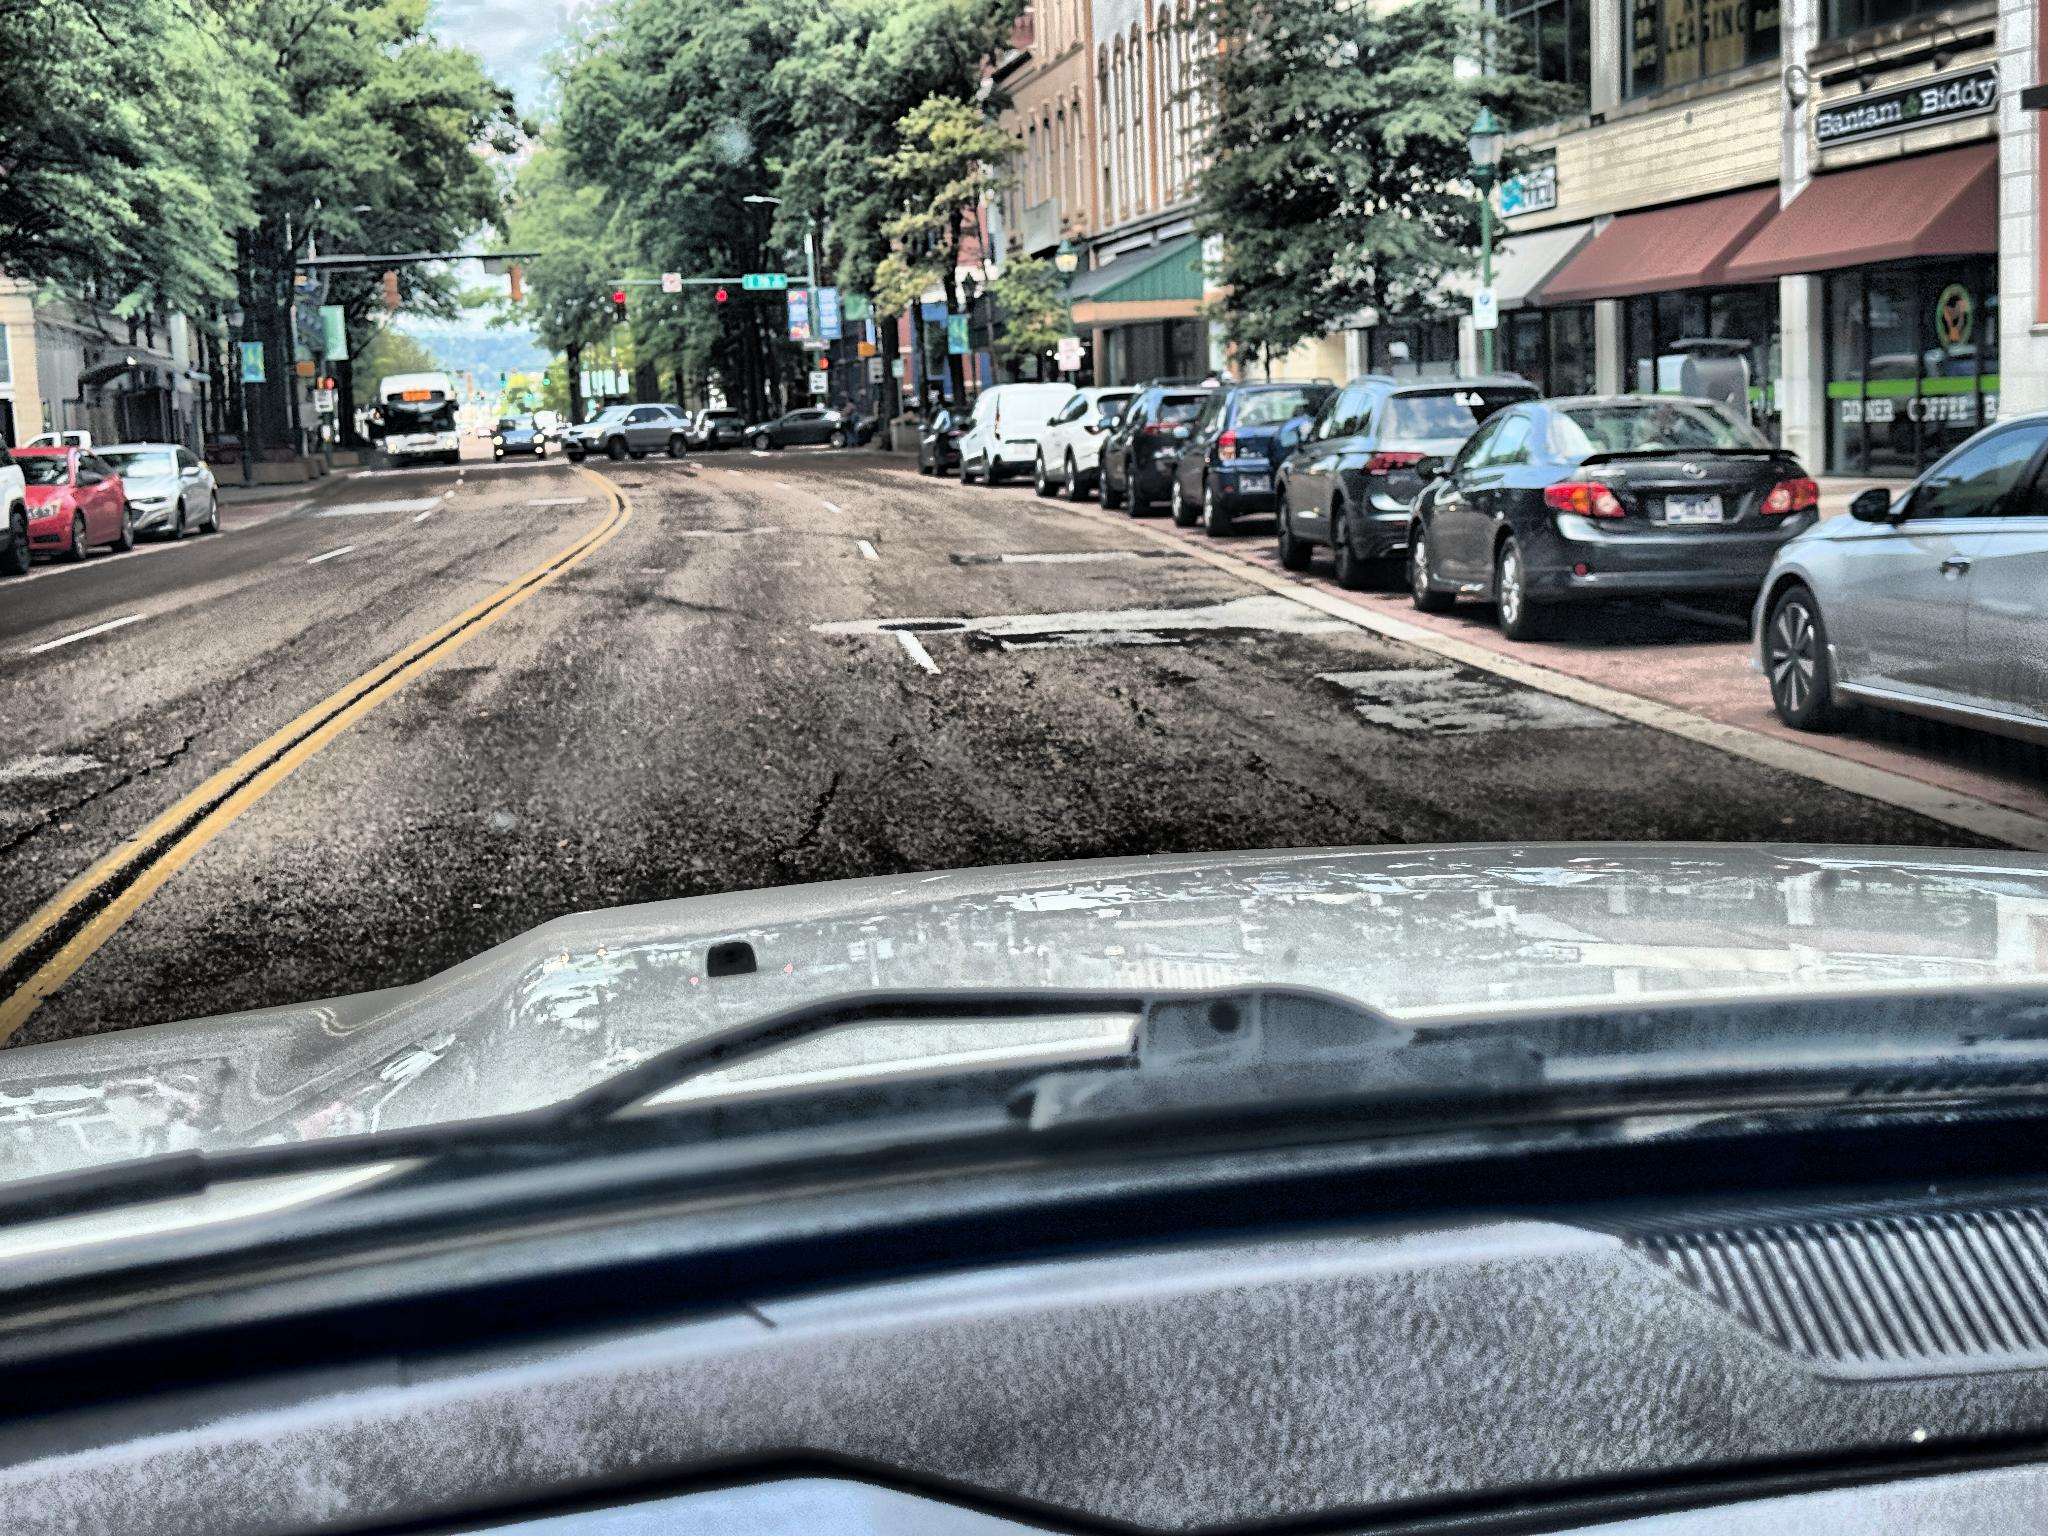pothole: (1316, 650, 1613, 745)
